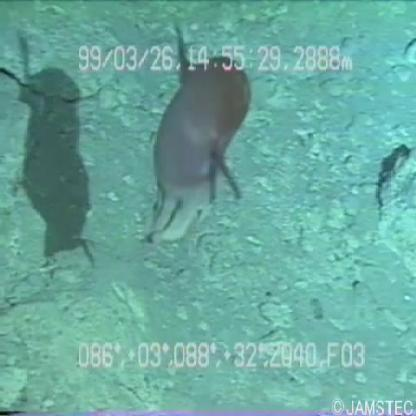Bio: (142, 21, 254, 251)
